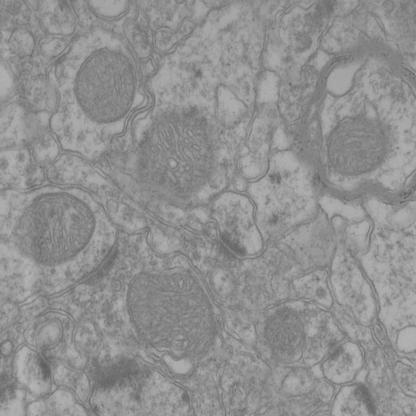mitochondria: (127, 265, 220, 364), (132, 107, 216, 198), (10, 190, 97, 264), (73, 44, 137, 126), (324, 111, 393, 178), (261, 302, 307, 359)
